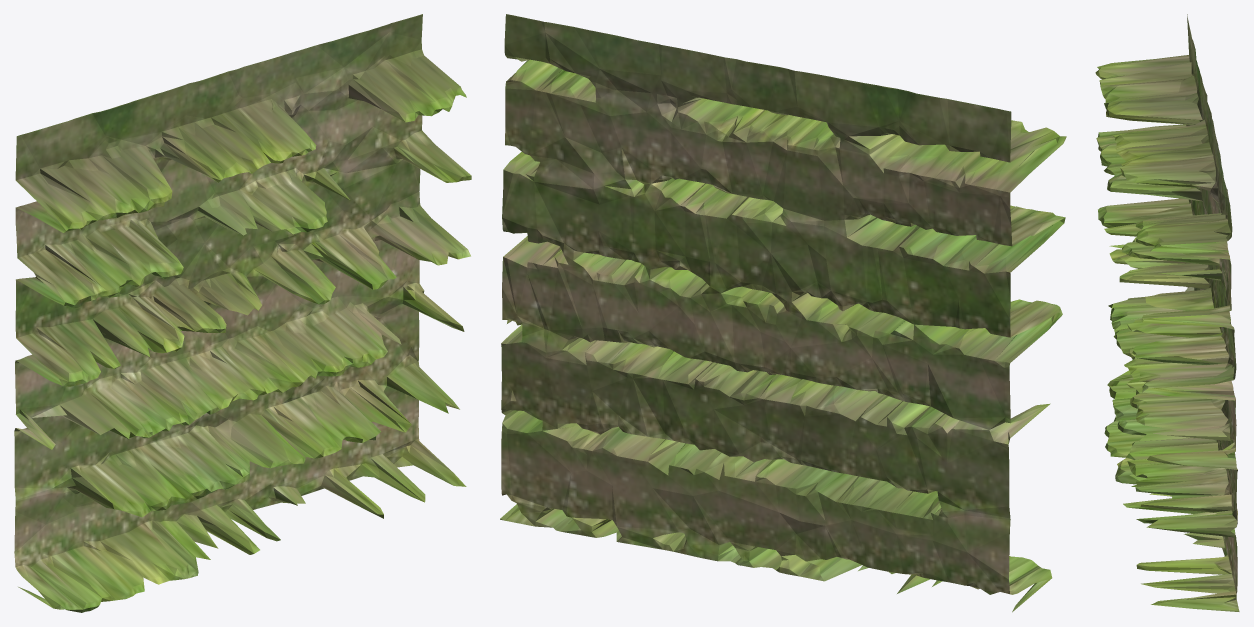
File: map_110_30.obj
3 views of the same model, side by side, from view 1: azimuth 30°, elevation 25°; view 2: azimuth 150°, elevation 25°; view 3: azimuth 270°, elevation 25° (orthographic). The views are drawn at different scales.
Parts seen in each view (by area): view 1: grp1; view 2: grp1; view 3: grp1.
Part boxes in pixels (x1=…): grp1: x1=14, y1=14, x2=471, y2=612; grp1: x1=500, y1=14, x2=1066, y2=612; grp1: x1=1095, y1=14, x2=1239, y2=611.
Size of the model in its own units: 10 by 10 by 3.2.
Materials: 1 (1 with a texture image).
